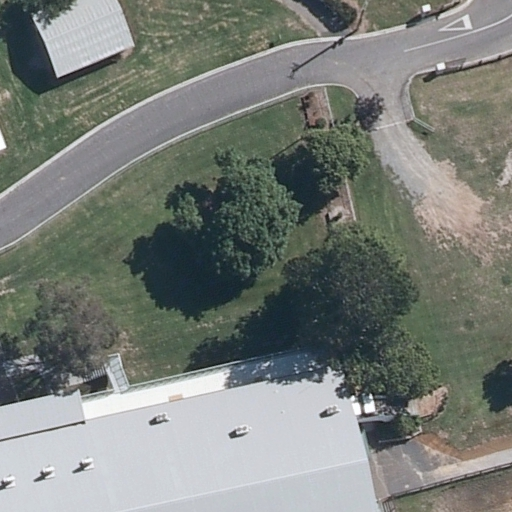DT: (349, 4, 369, 36)
